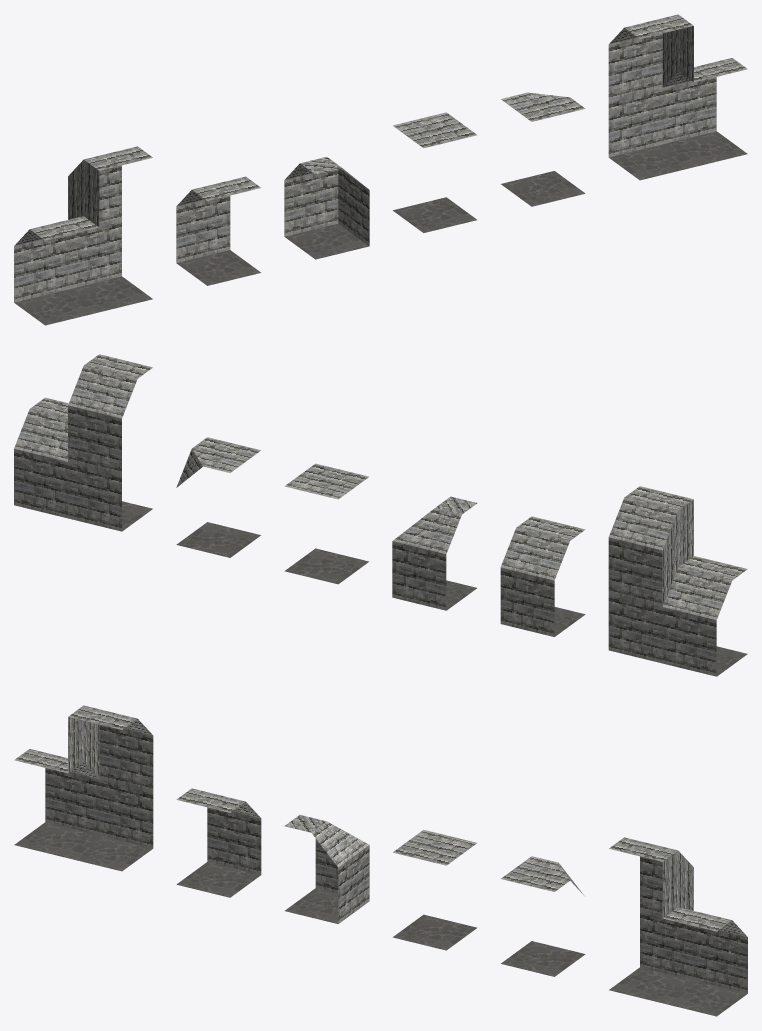
The model's file is tilesetsmoller.glb.
3 renders of one model, top to bottom at view 1: azimuth 30°, elevation 25°; view 2: azimuth 150°, elevation 25°; view 3: azimuth 330°, elevation 25°, orthographic.
Parts seen in each view (by area): view 1: wall-col.003-col, wall-col.002-col, corner-in-col.001-col, wall-col.001-col, roof-col.001-col, corner-col.001-col; view 2: wall-col.002-col, wall-col.003-col, wall-col.001-col, corner-in-col.001-col, corner-col.001-col, roof-col.001-col; view 3: wall-col.002-col, wall-col.003-col, wall-col.001-col, corner-in-col.001-col, roof-col.001-col, corner-col.001-col.
Boxes of the visible parts, bbox=[...] form: wall-col.003-col: bbox=[608, 14, 747, 180]; wall-col.002-col: bbox=[14, 146, 152, 325]; corner-in-col.001-col: bbox=[284, 157, 369, 259]; wall-col.001-col: bbox=[176, 176, 260, 285]; roof-col.001-col: bbox=[393, 112, 477, 232]; corner-col.001-col: bbox=[501, 92, 585, 206]; wall-col.002-col: bbox=[608, 486, 747, 676]; wall-col.003-col: bbox=[14, 354, 152, 531]; wall-col.001-col: bbox=[500, 516, 585, 636]; corner-in-col.001-col: bbox=[392, 496, 477, 610]; corner-col.001-col: bbox=[176, 437, 260, 557]; roof-col.001-col: bbox=[284, 463, 368, 584]; wall-col.002-col: bbox=[14, 705, 153, 871]; wall-col.003-col: bbox=[609, 837, 747, 1016]; wall-col.001-col: bbox=[176, 788, 261, 897]; corner-in-col.001-col: bbox=[284, 815, 369, 923]; roof-col.001-col: bbox=[392, 829, 477, 950]; corner-col.001-col: bbox=[501, 856, 585, 976].
Size of the model in its own units: 13 by 2.5 by 1.
1 material, 1 textured.
